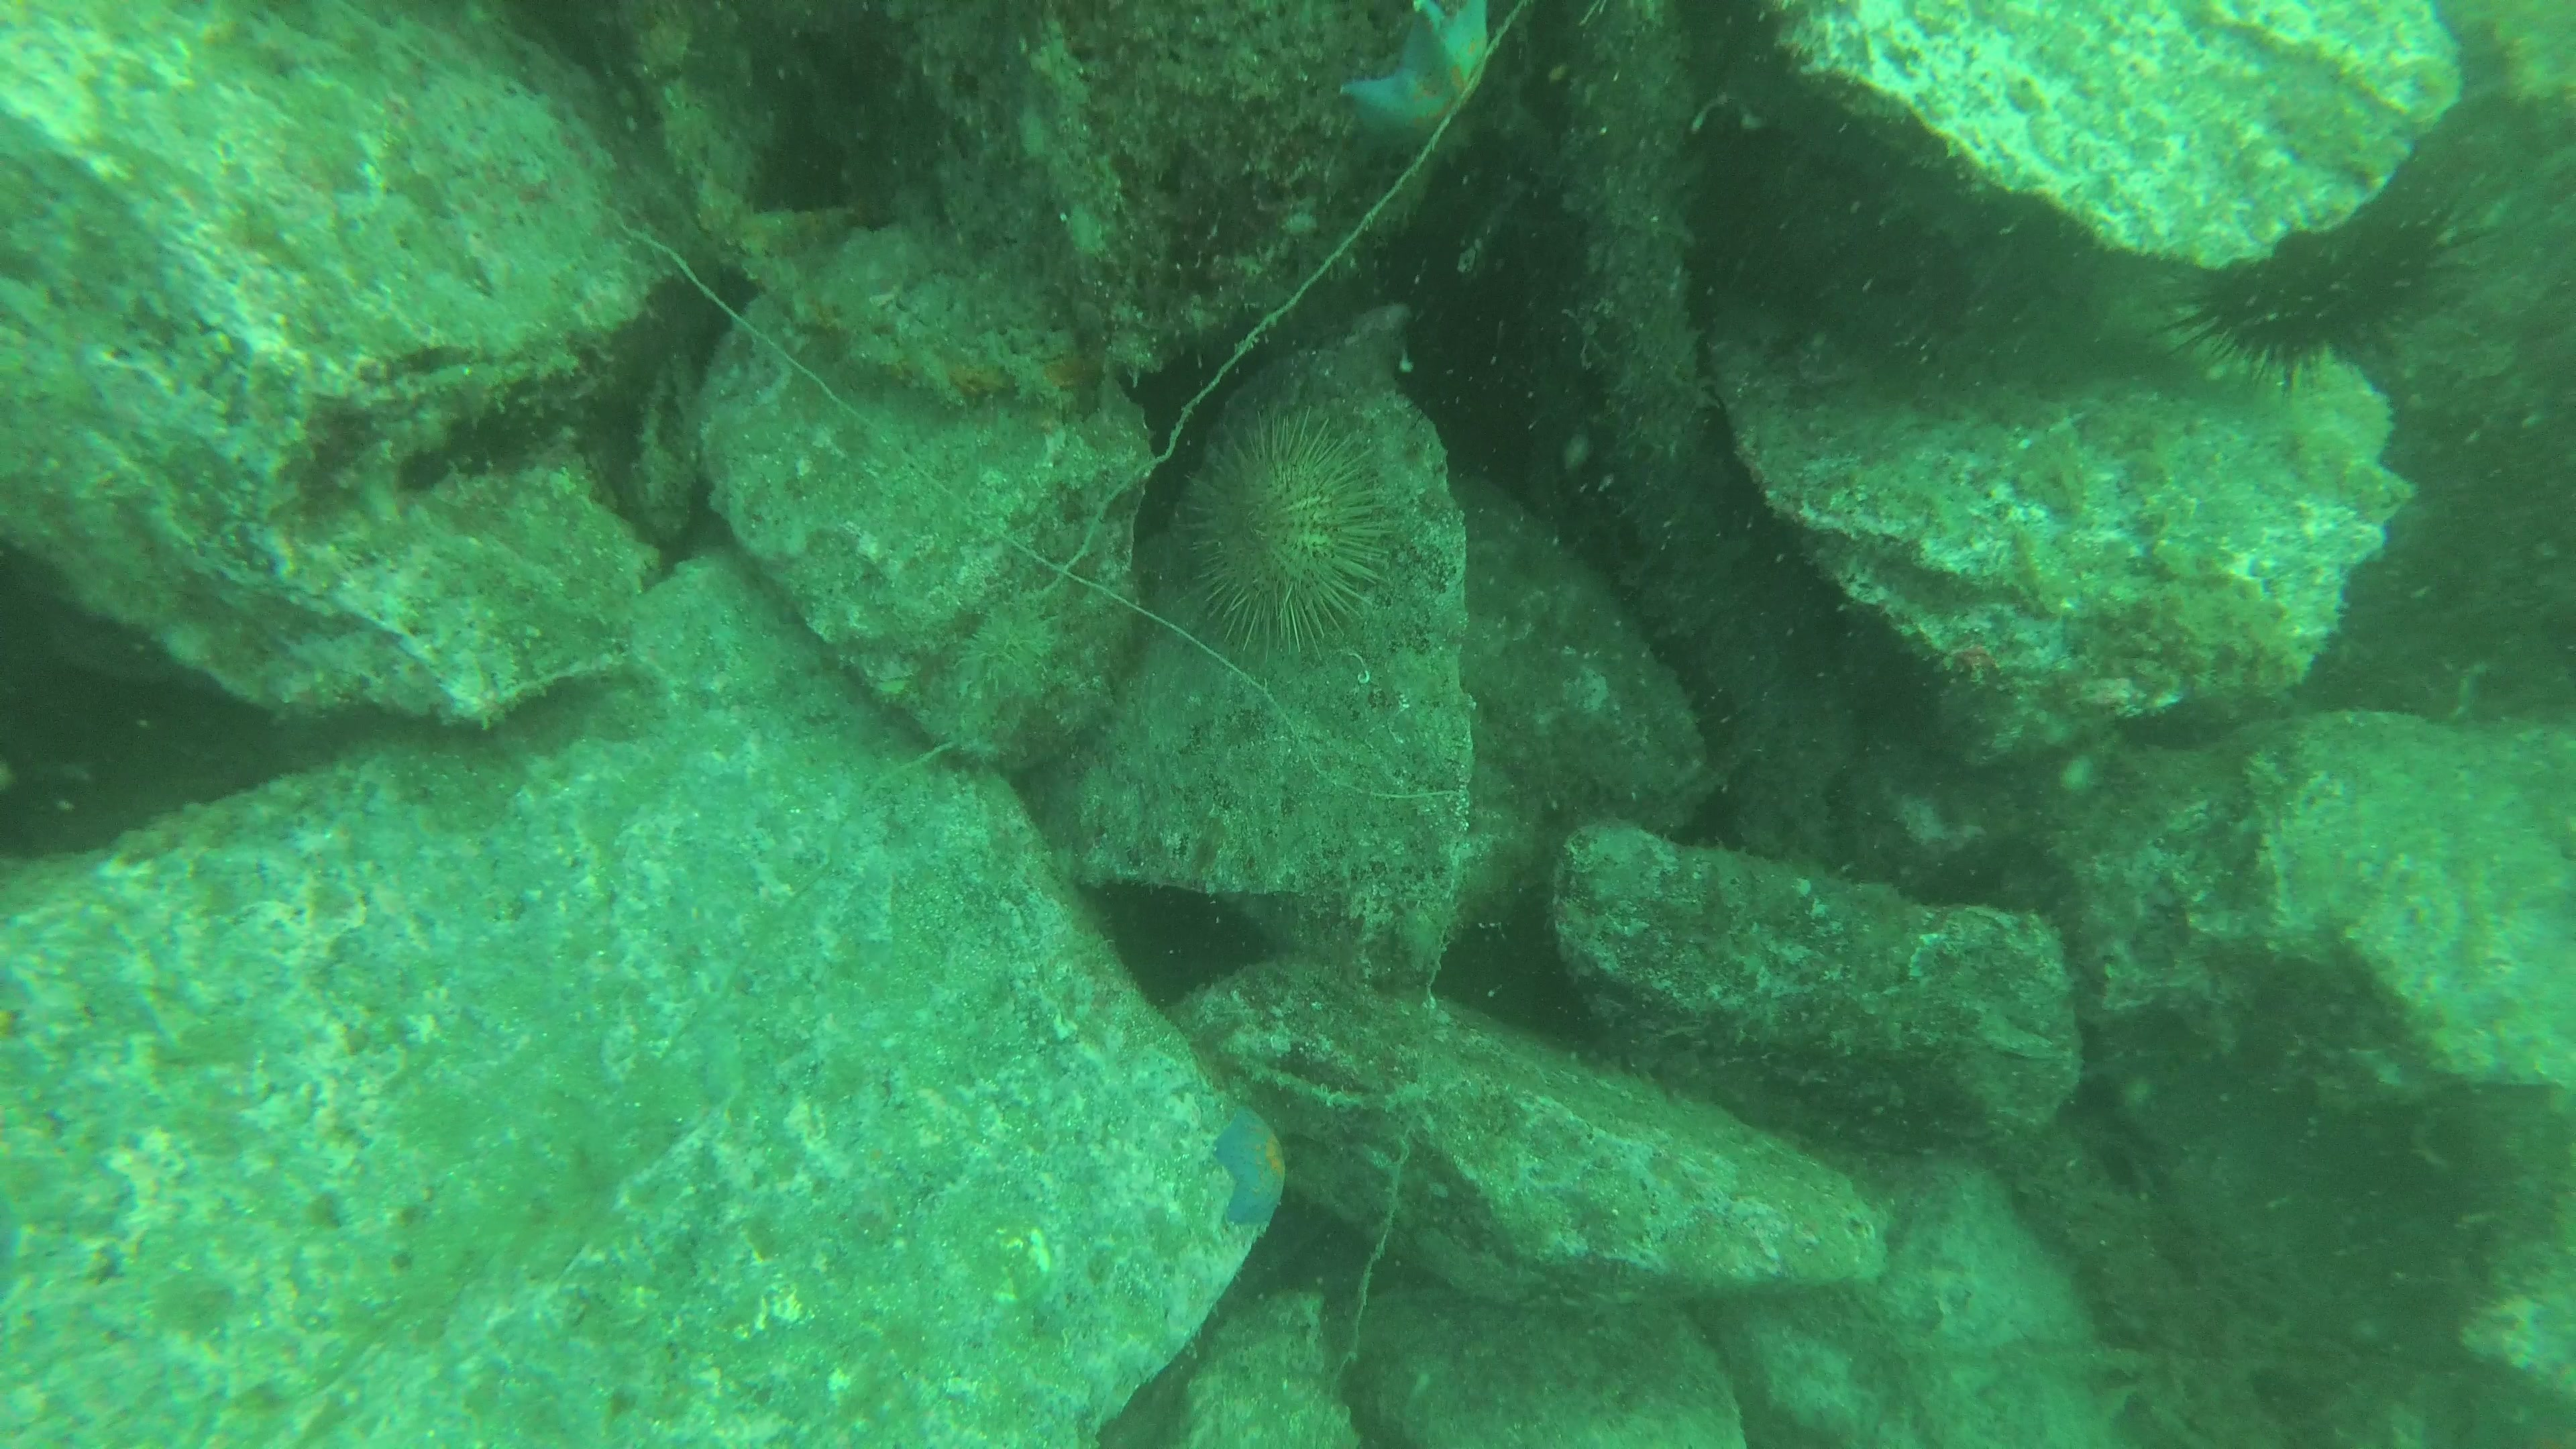echinus: (1180, 410, 1407, 660), (2174, 205, 2466, 389)
starfish: (1343, 2, 1507, 150), (1210, 1102, 1299, 1251)
